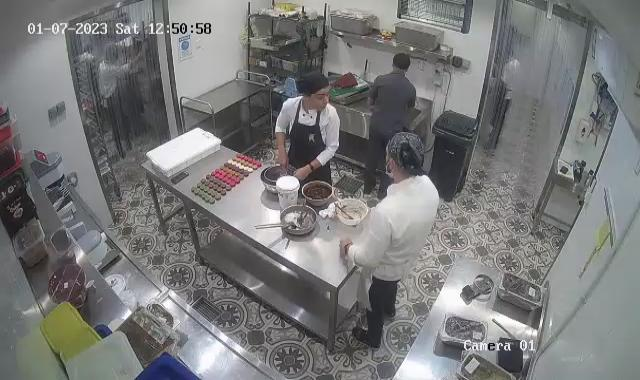no_hairnet: (386, 130, 426, 178), (297, 69, 330, 100), (389, 52, 412, 75)
